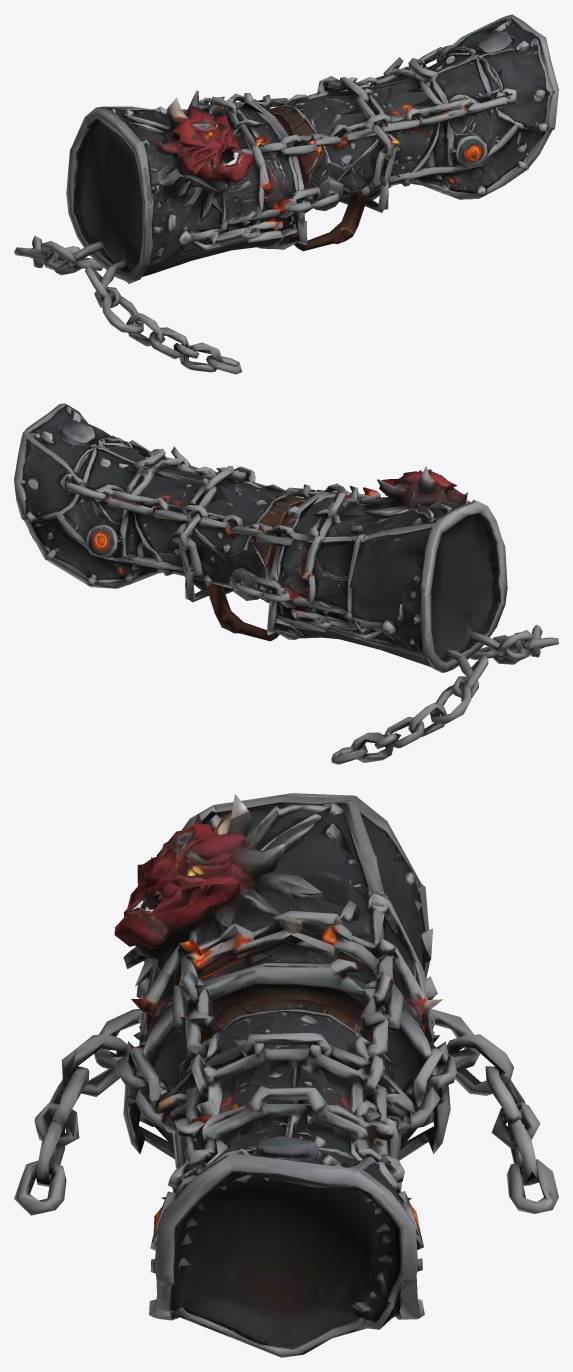
File: prop_enra_bracer.fbx
The picture shows the model from 3 angles, top to bottom: view 1: azimuth 30°, elevation 25°; view 2: azimuth 150°, elevation 25°; view 3: azimuth 270°, elevation 25°; orthographic projection. The views are drawn at different scales.
Parts seen in each view (by area): view 1: tripo_node_474d143f-85d7-4cfa-83c8-ebc426cb1ce6; view 2: tripo_node_474d143f-85d7-4cfa-83c8-ebc426cb1ce6; view 3: tripo_node_474d143f-85d7-4cfa-83c8-ebc426cb1ce6.
Boxes of the visible parts, bbox=[...] form: tripo_node_474d143f-85d7-4cfa-83c8-ebc426cb1ce6: bbox=[14, 14, 558, 374]; tripo_node_474d143f-85d7-4cfa-83c8-ebc426cb1ce6: bbox=[14, 403, 558, 764]; tripo_node_474d143f-85d7-4cfa-83c8-ebc426cb1ce6: bbox=[14, 793, 558, 1357].
Bounding box in the file's own units: 0.9812 × 0.4655 × 0.552.
